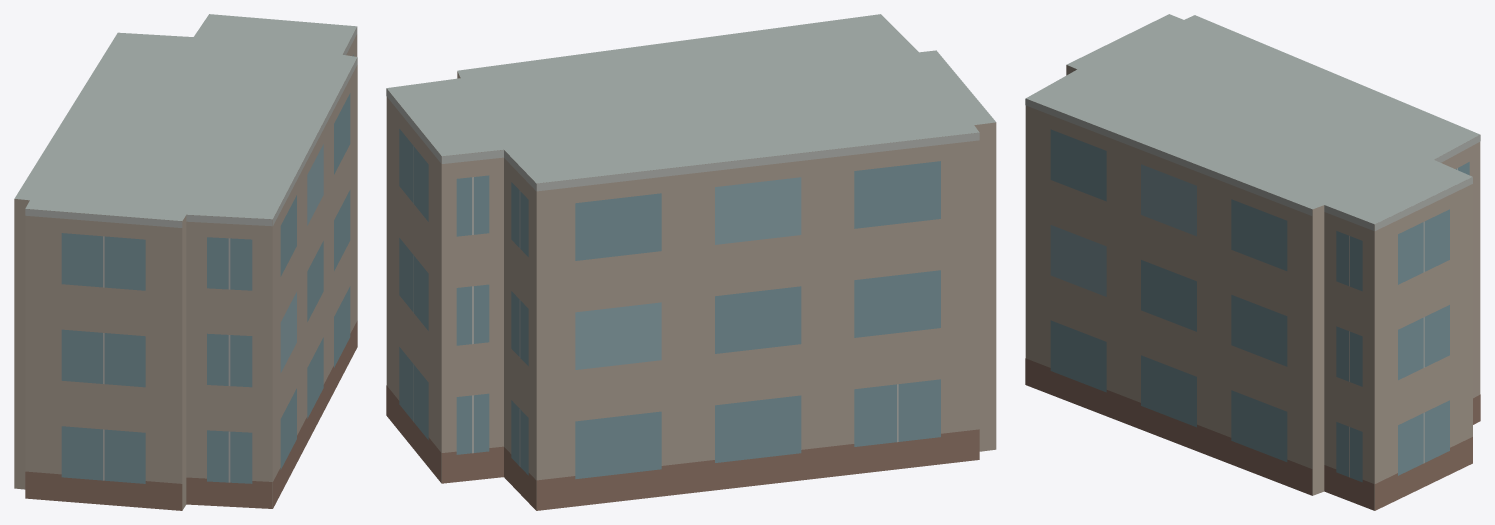
Rendered from survey-upis-32891138.glb.
The picture shows the model from 3 angles, left to right: view 1: azimuth 30°, elevation 25°; view 2: azimuth 150°, elevation 25°; view 3: azimuth 270°, elevation 25°; orthographic projection. The views are drawn at different scales.
Visible parts, largest first — view 1: survey-upis-32891138.tmp; view 2: survey-upis-32891138.tmp; view 3: survey-upis-32891138.tmp.
Boxes of the visible parts, bbox=[...] form: survey-upis-32891138.tmp: bbox=[14, 14, 357, 510]; survey-upis-32891138.tmp: bbox=[386, 14, 996, 510]; survey-upis-32891138.tmp: bbox=[1025, 14, 1480, 510].
Size of the model in its own units: 15.91 by 10.1 by 14.54.
